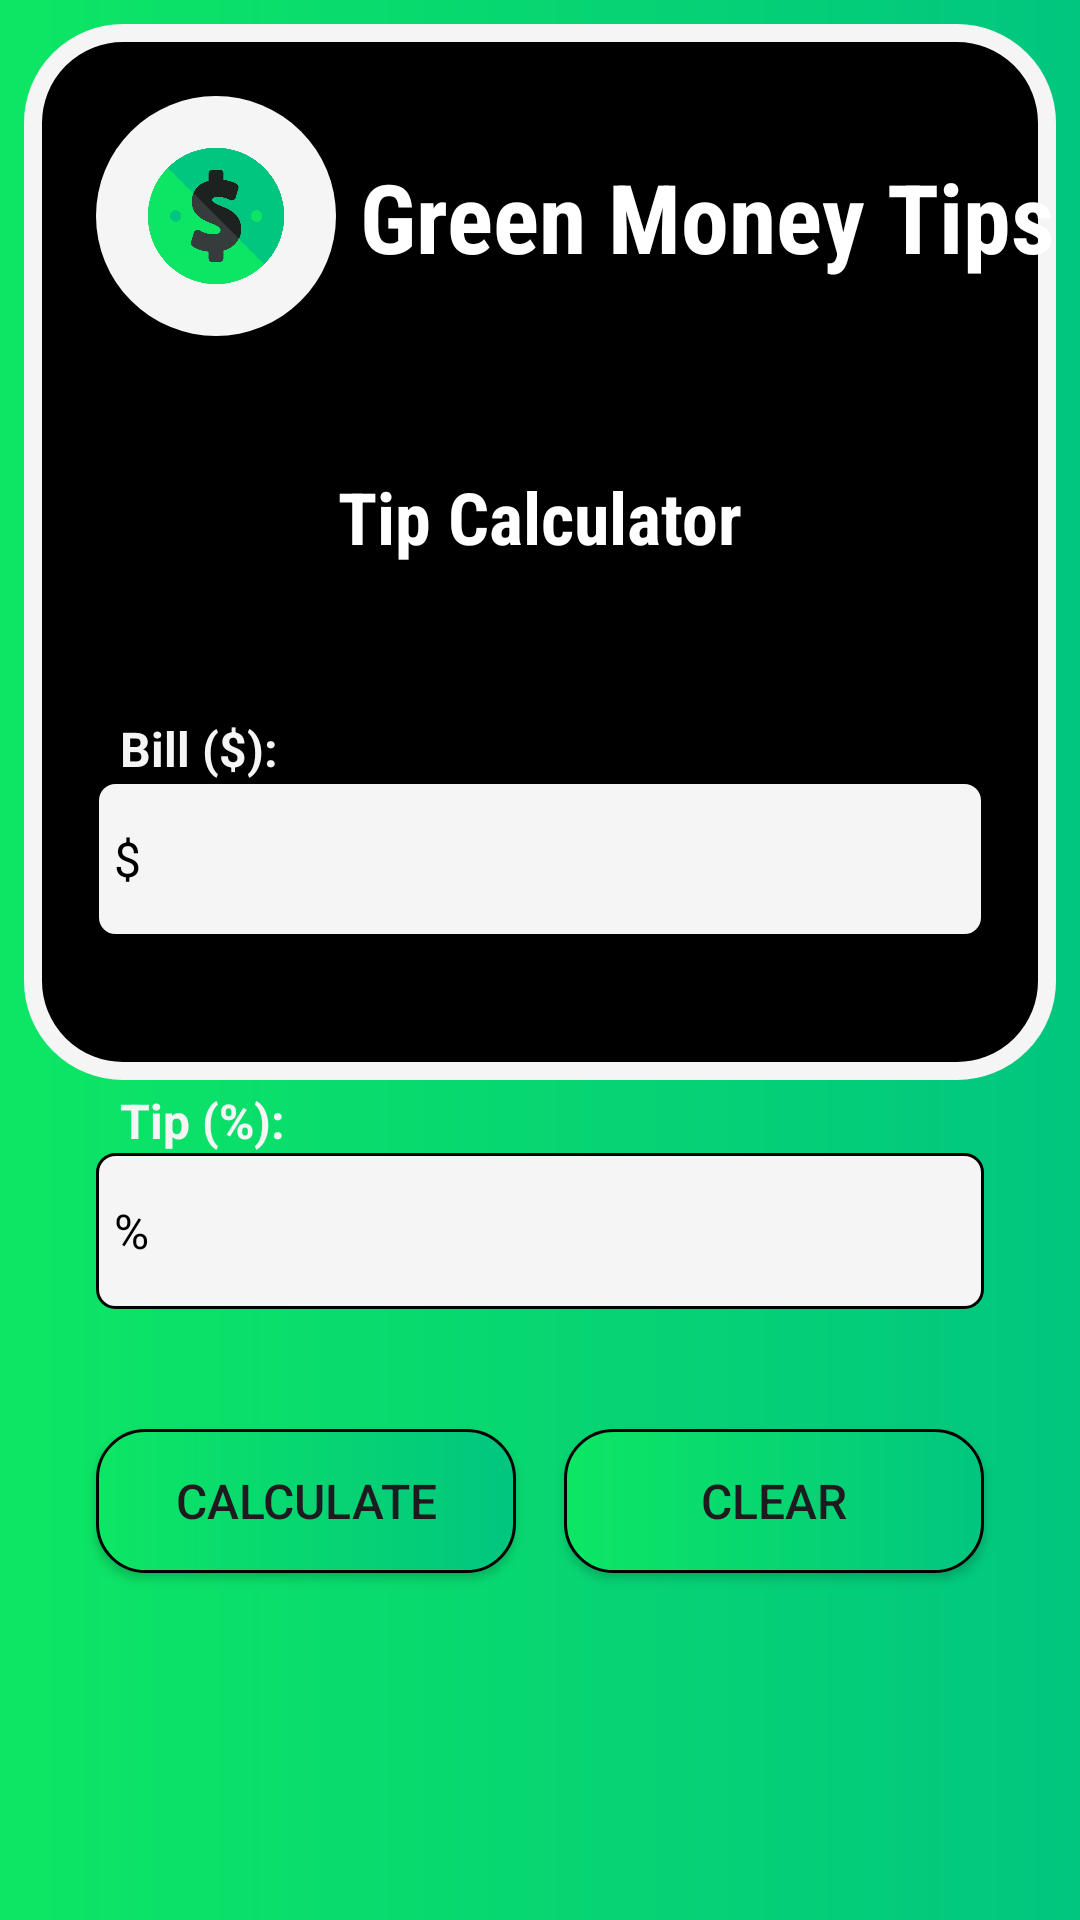

Where icons sit on this 1080 × 1920 app screen, as {"x1": x1, "y1": y1, "x2": x2, "y2": y2}:
dollar: {"x1": 96, "y1": 96, "x2": 336, "y2": 336}
